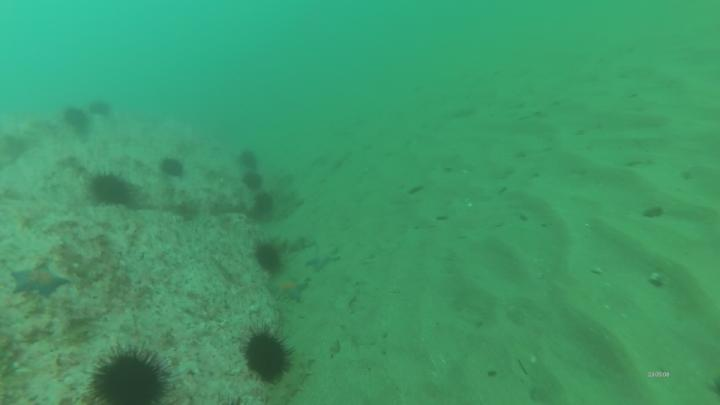echinus: (88, 346, 172, 405), (242, 327, 293, 385), (89, 170, 133, 205), (62, 103, 93, 136), (156, 158, 187, 185), (256, 243, 282, 273), (85, 97, 117, 119), (237, 147, 261, 169), (241, 171, 265, 191), (255, 193, 275, 215)
starfish: (10, 261, 71, 299), (306, 241, 341, 276), (272, 275, 309, 304)
